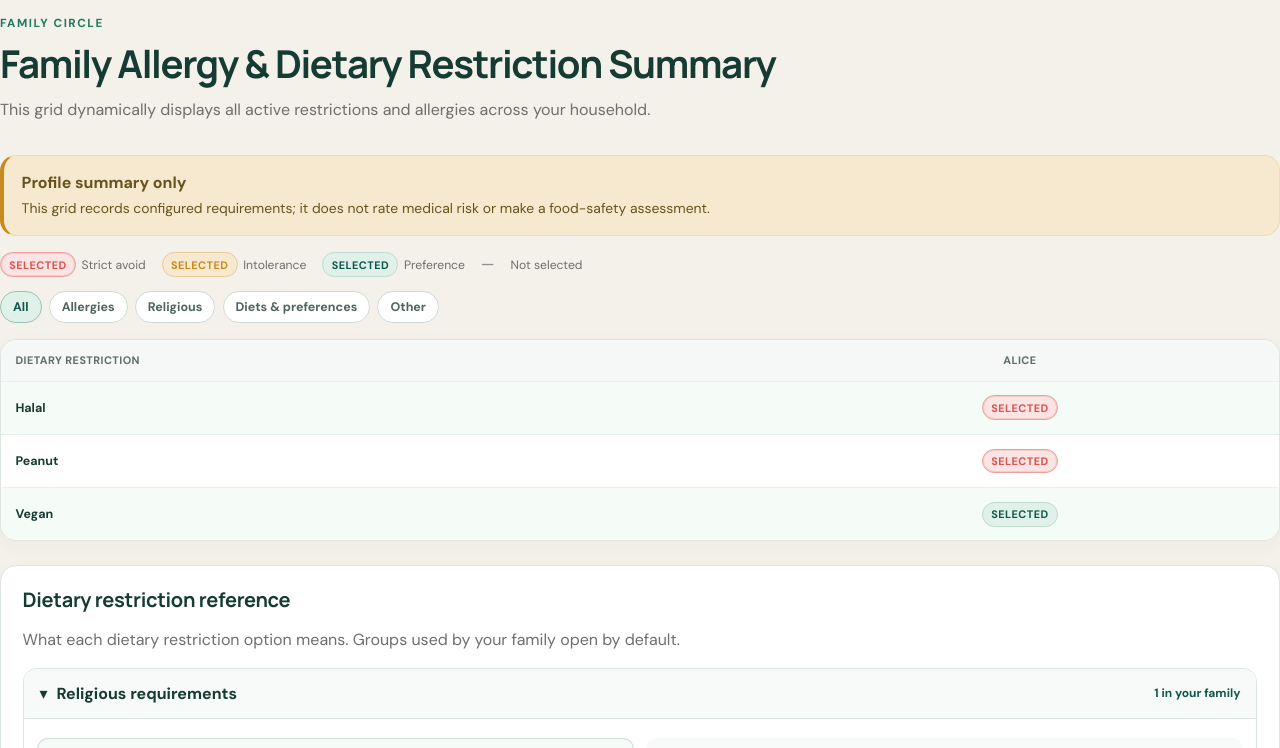
FamilyRestrictionSummaryPage › filters restriction rows by dietary group
Expected: the table is shown, [1,340,1279,540]
Click the button "Allergies".
click(88, 307)  # box [49,291,128,323]
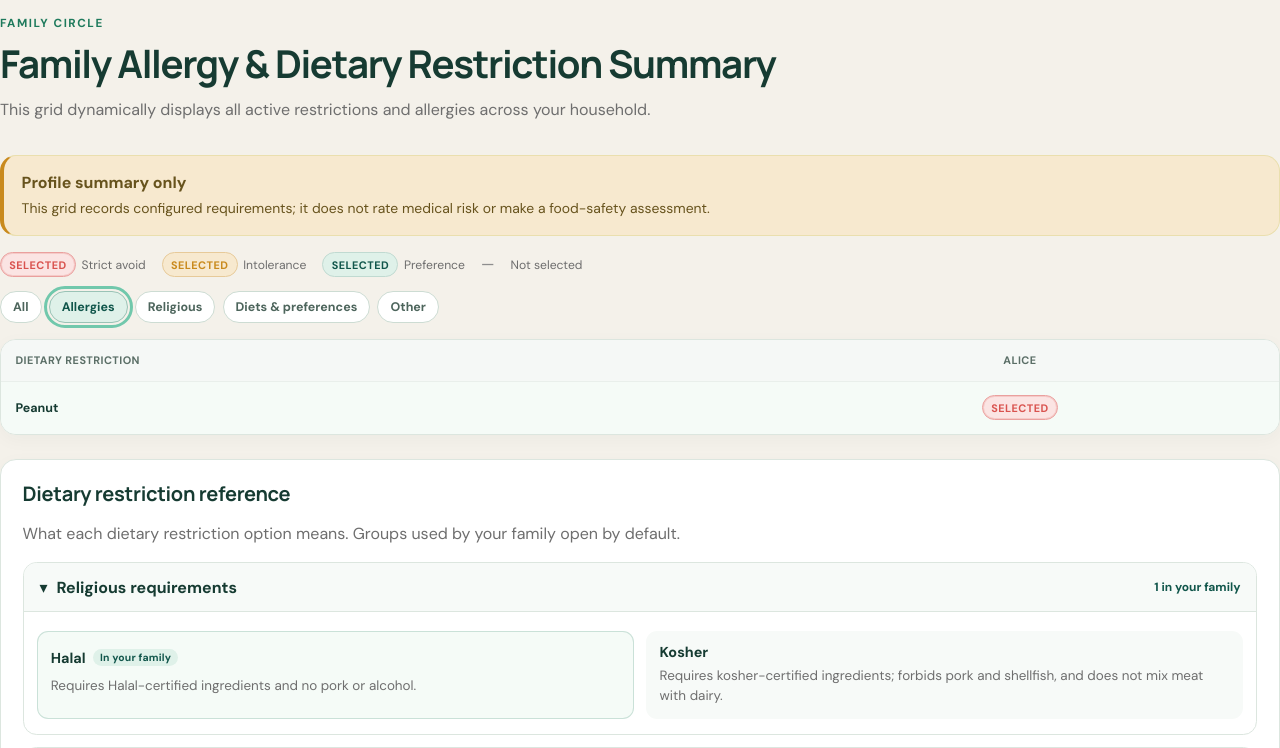
Expected: the row "Peanut SELECTED" is shown, [1,382,1279,434]
Expected: the row "Vegan" is not shown
Click the button "Diets & preferences".
click(296, 307)  # box [222,291,370,323]
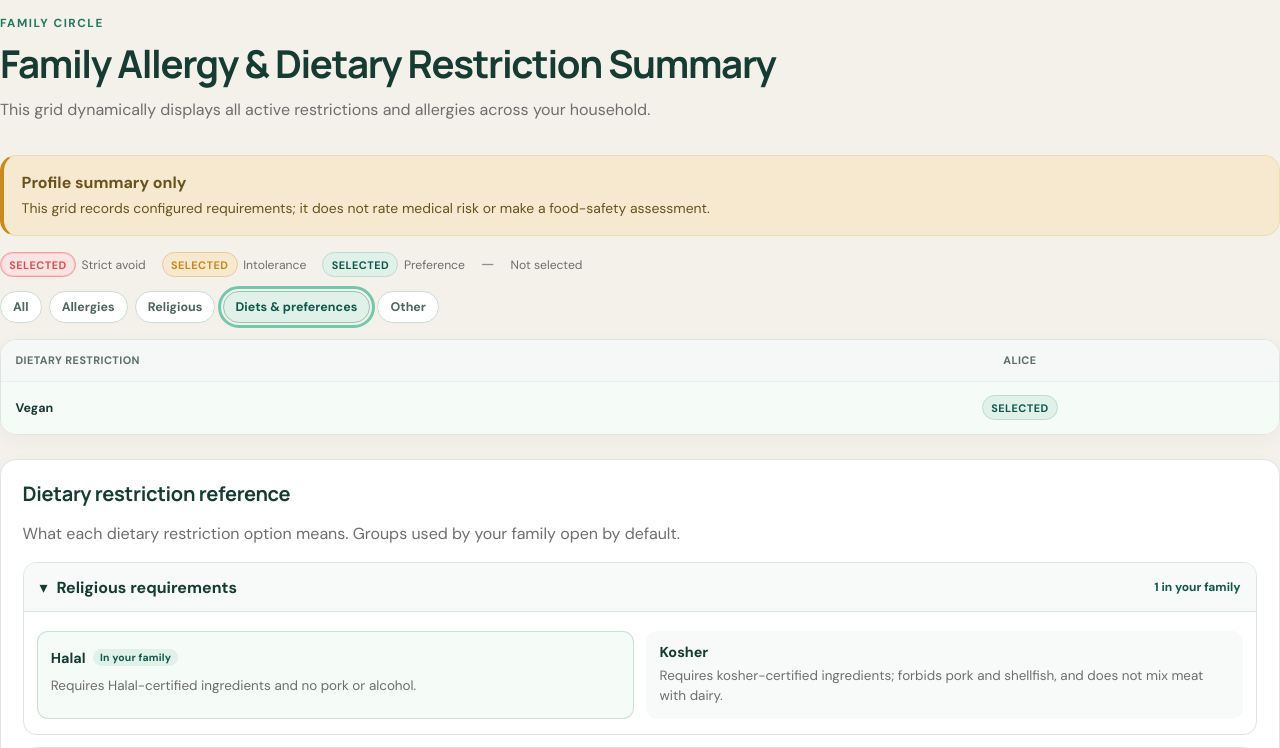
Expected: the row "Peanut" is not shown
Result: the row "Vegan SELECTED" is shown at [1,382,1279,434]
